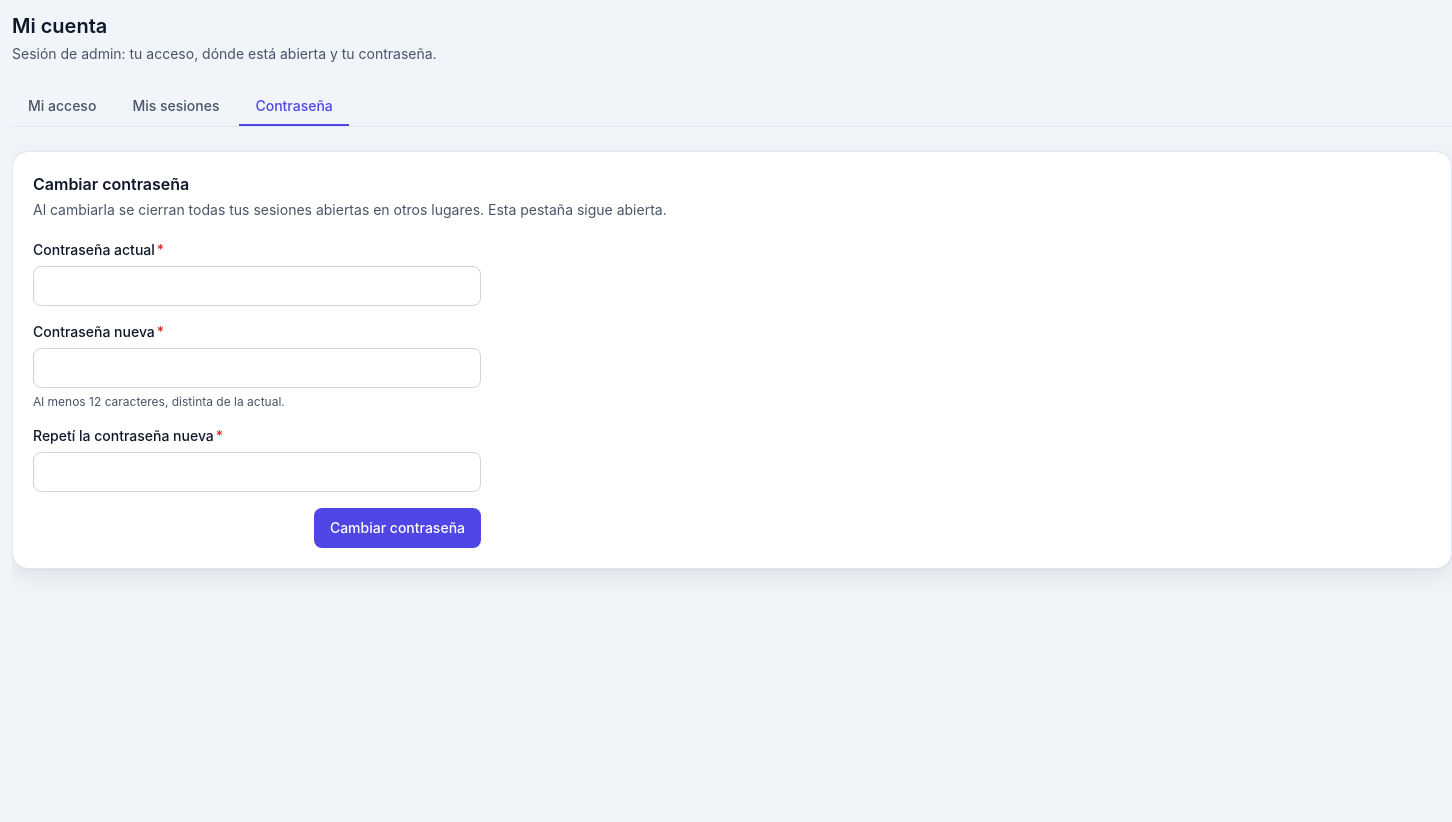
Scenario: MyAccountPage — «Contraseña» › si la nueva y la repetida no coinciden, no manda nada
The width and height of the screenshot is (1452, 822).
Type "actual-de-doce-chars" into the password field labelled "Contraseña actual*".
click(257, 286); type("actual-de-doce-chars")  # box [33,266,481,306]
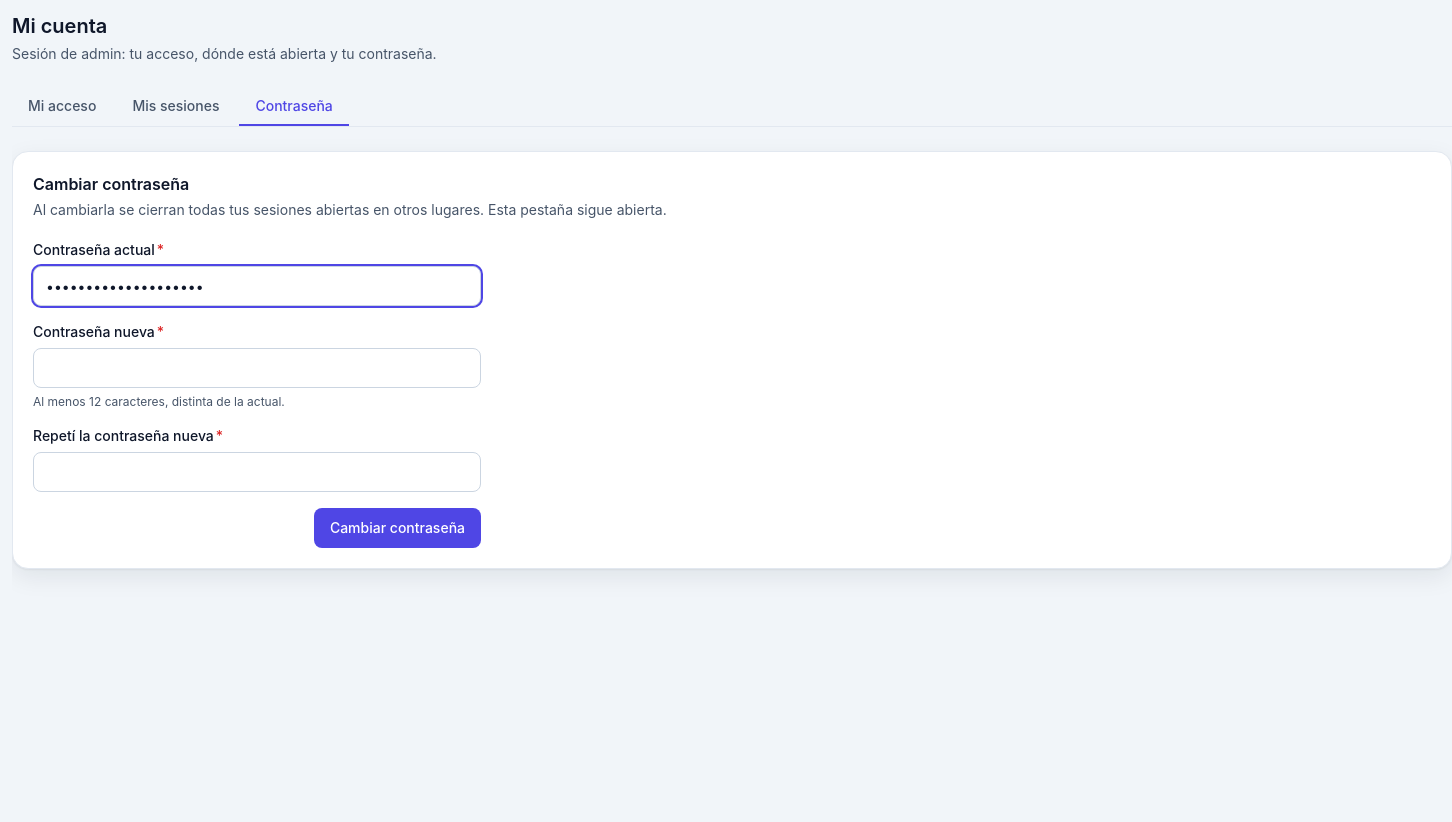
Type "nueva-de-doce-chars" into the password field labelled "Contraseña nueva*".
click(257, 368); type("nueva-de-doce-chars")  # box [33,348,481,388]
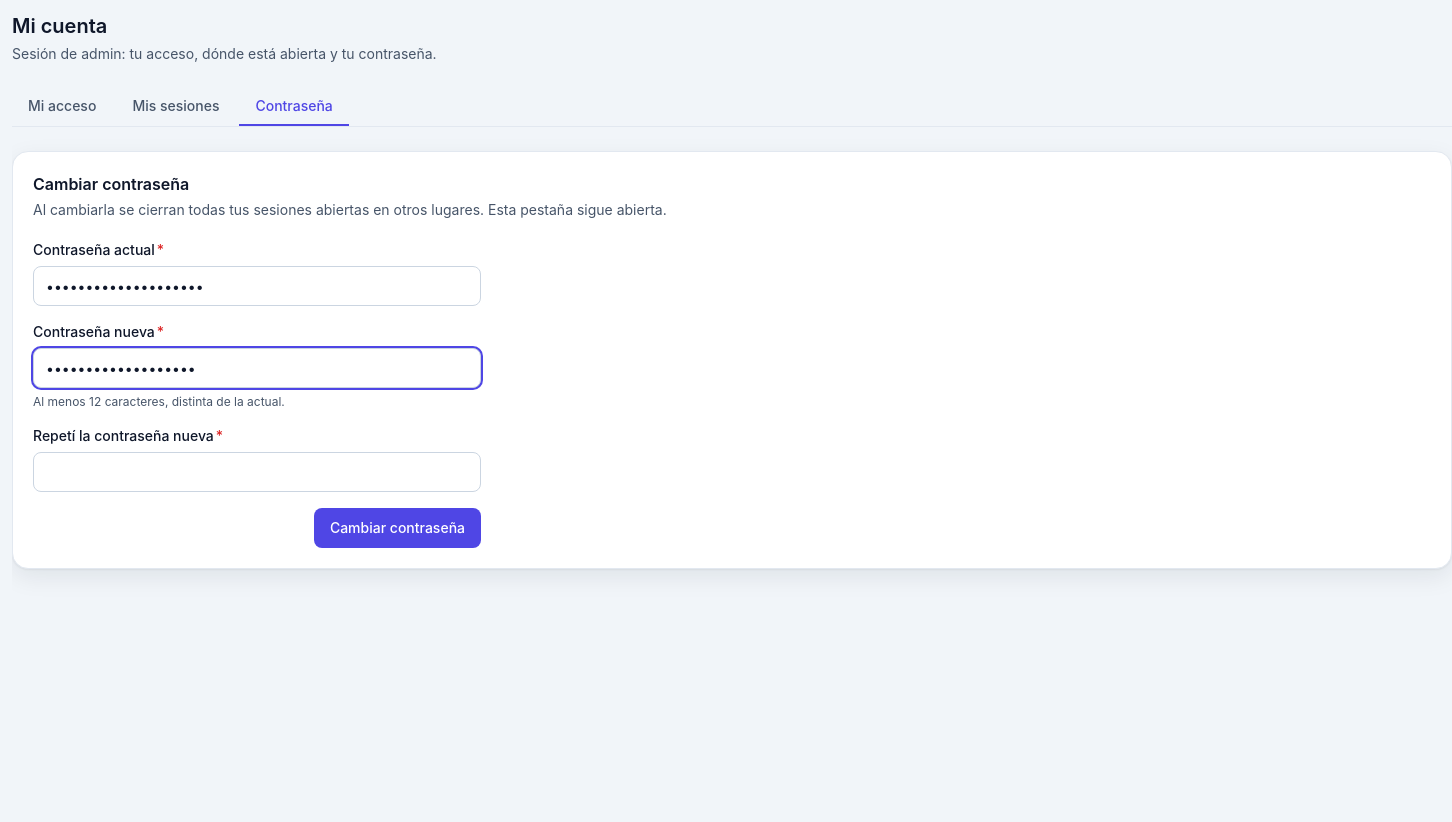
Type "otra-cosa-distinta" into the password field labelled "Repetí la contraseña nueva*".
click(257, 472); type("otra-cosa-distinta")  # box [33,452,481,492]
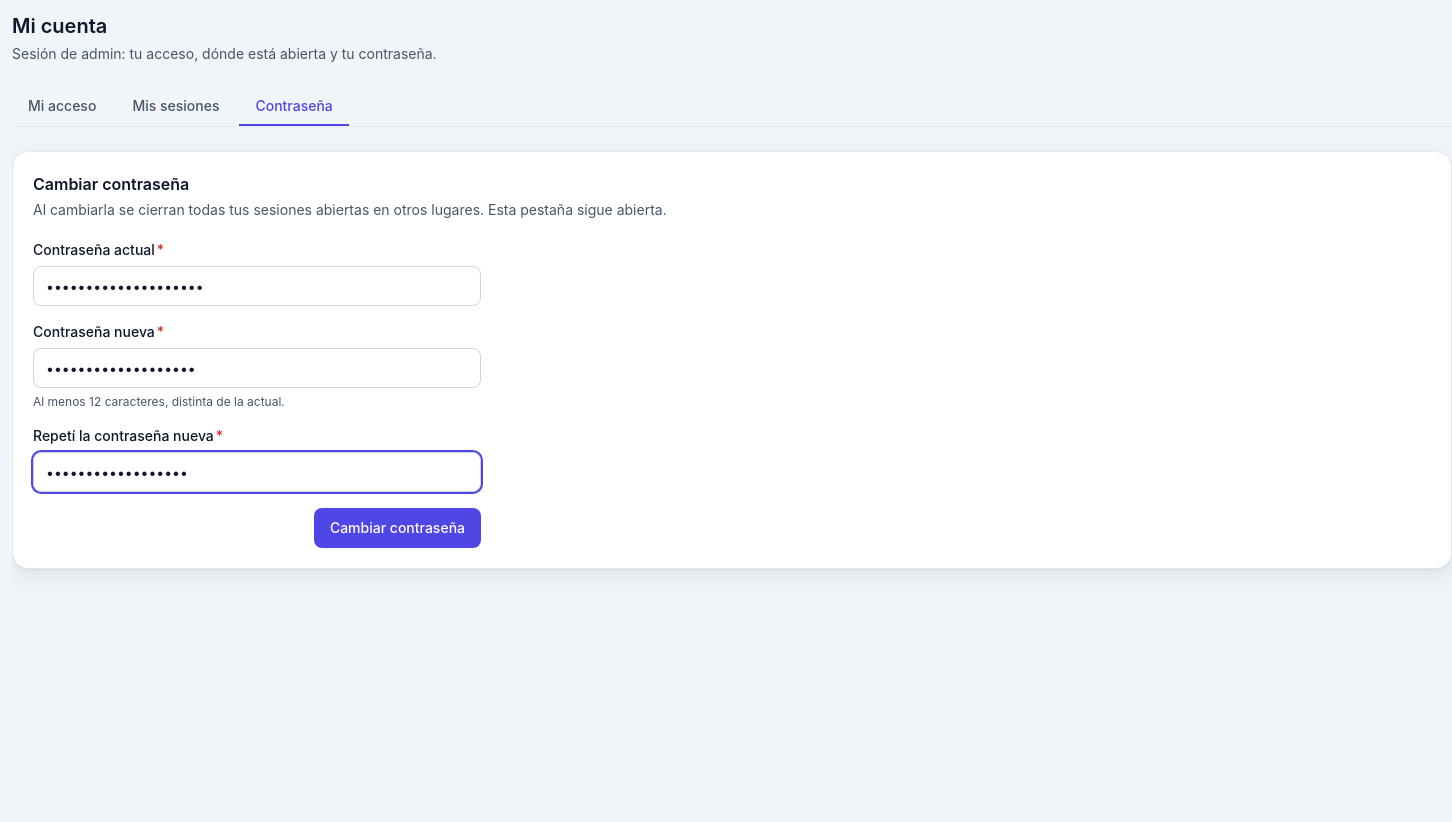
Click the button "Cambiar contraseña".
click(397, 528)  # box [314,508,481,548]
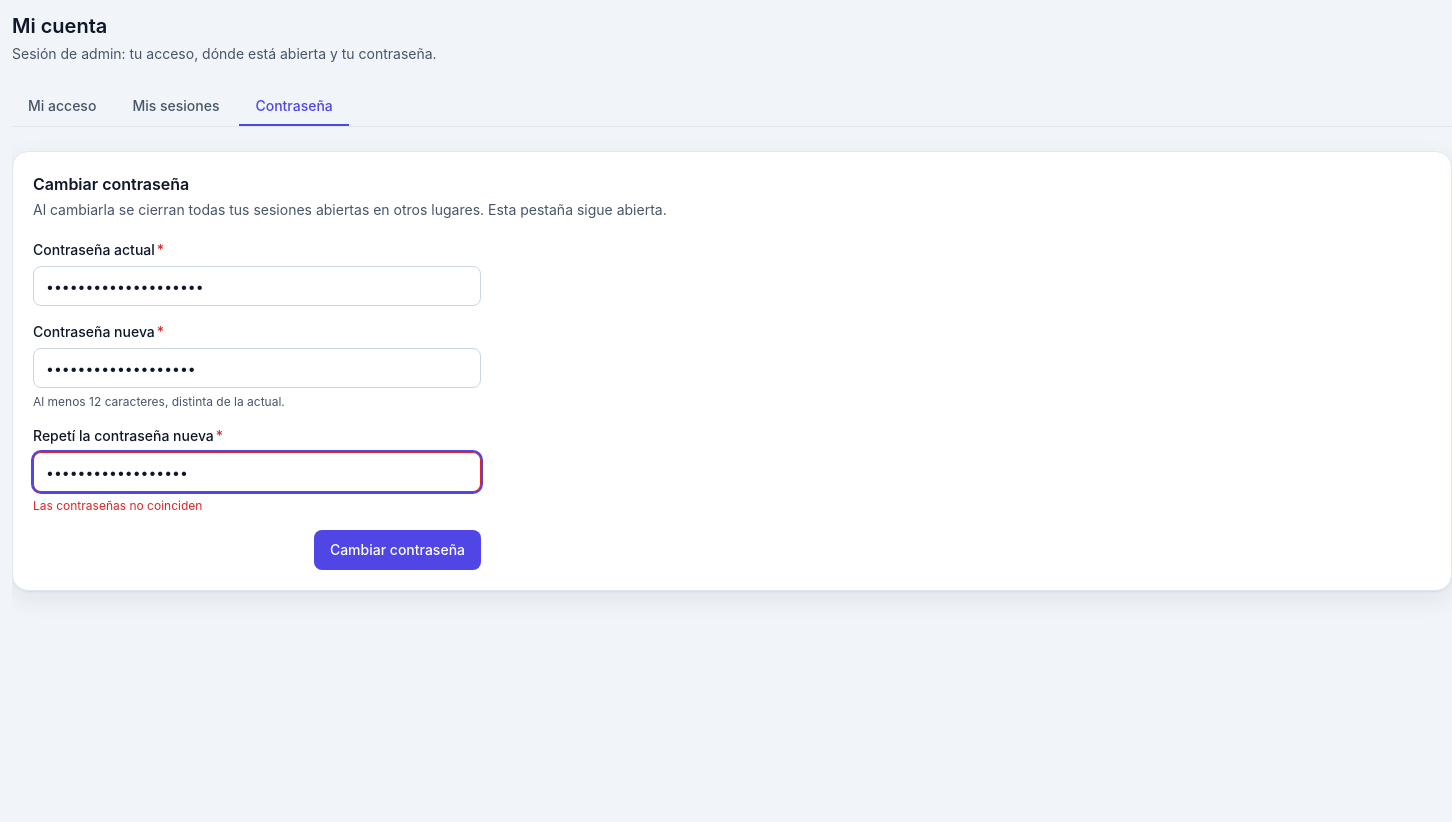
Check: the text "Las contraseñas no coinciden" is shown, box [33,498,202,513]
